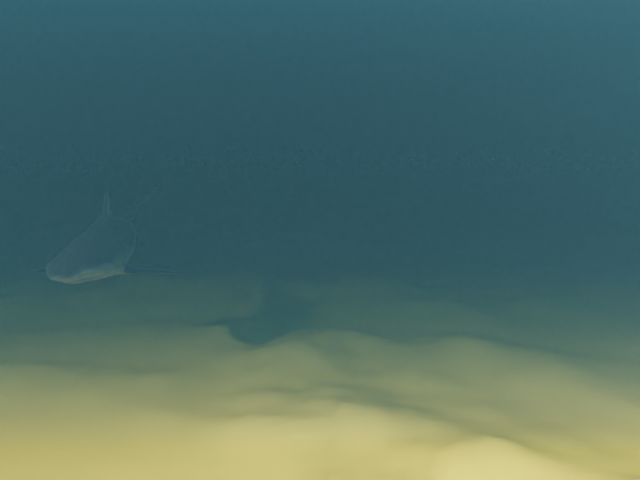Carribean Shark.001: (24, 178, 190, 283)
